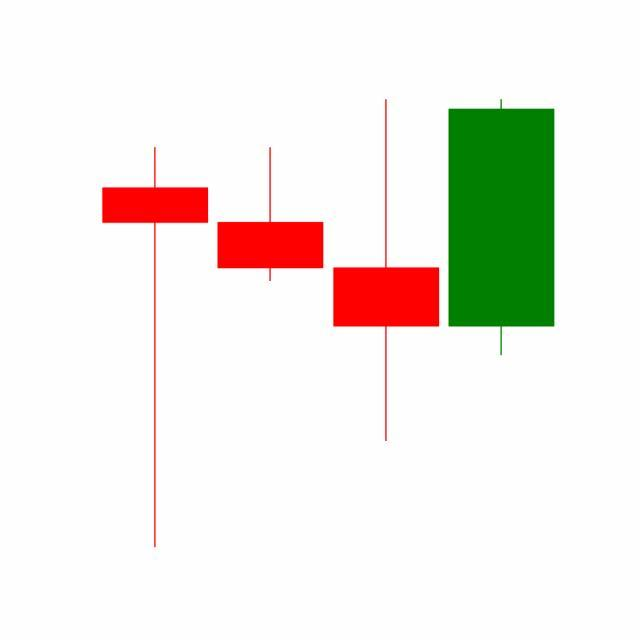Spinning Top: (329, 96, 445, 446)
